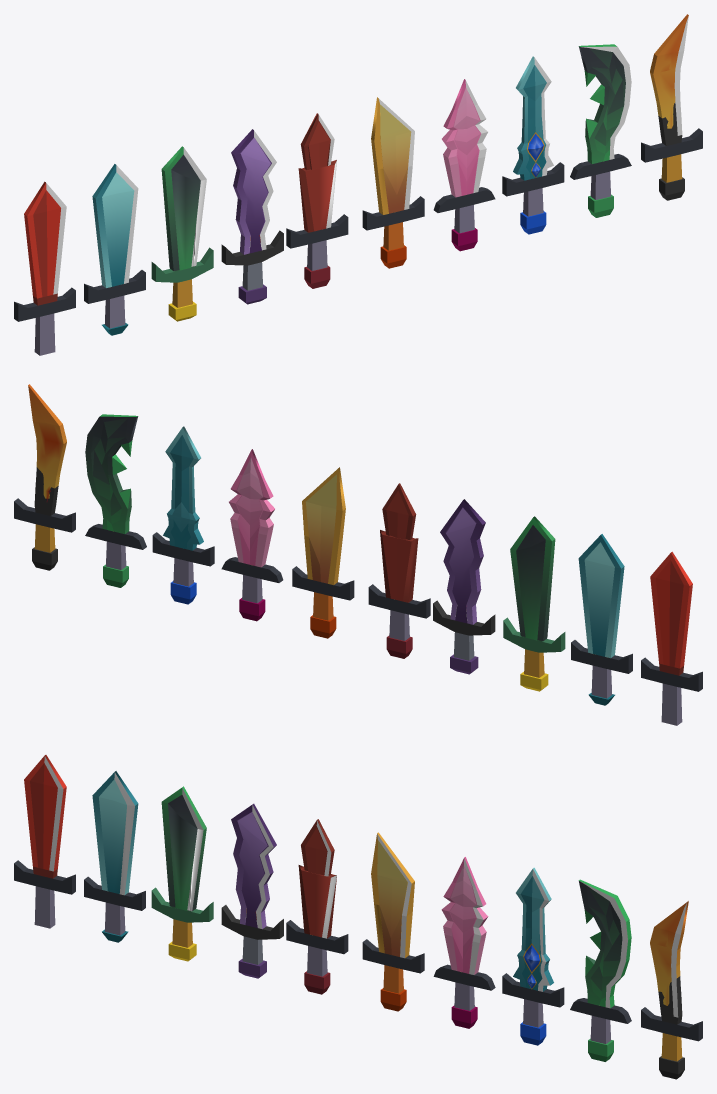
Rendered from Swords.fbx.
The picture shows the model from 3 angles, top to bottom: view 1: azimuth 30°, elevation 25°; view 2: azimuth 150°, elevation 25°; view 3: azimuth 330°, elevation 25°; orthographic projection.
Parts seen in each view (by area): view 1: sword_9, sword_3, sword_2, sword_6, sword_4, sword_1, sword_5, sword_7, sword_8, sword_10; view 2: sword_9, sword_3, sword_2, sword_6, sword_4, sword_1, sword_5, sword_7, sword_8, sword_10; view 3: sword_9, sword_3, sword_6, sword_2, sword_4, sword_1, sword_5, sword_7, sword_8, sword_10.
Part boxes in pixels (bbox=[...]): sword_9: bbox=[570, 44, 631, 217]; sword_3: bbox=[151, 146, 213, 321]; sword_2: bbox=[84, 164, 145, 335]; sword_6: bbox=[362, 97, 424, 268]; sword_4: bbox=[221, 129, 283, 304]; sword_1: bbox=[14, 181, 75, 355]; sword_5: bbox=[286, 113, 348, 288]; sword_7: bbox=[433, 79, 495, 251]; sword_8: bbox=[502, 56, 564, 234]; sword_10: bbox=[641, 14, 702, 200]; sword_9: bbox=[85, 414, 146, 587]; sword_3: bbox=[503, 516, 565, 691]; sword_2: bbox=[571, 534, 632, 705]; sword_6: bbox=[292, 467, 354, 638]; sword_4: bbox=[433, 499, 495, 674]; sword_1: bbox=[641, 551, 702, 725]; sword_5: bbox=[368, 483, 430, 658]; sword_7: bbox=[221, 449, 283, 621]; sword_8: bbox=[152, 426, 214, 604]; sword_10: bbox=[14, 384, 75, 570]; sword_9: bbox=[570, 879, 631, 1061]; sword_3: bbox=[151, 786, 213, 961]; sword_6: bbox=[362, 832, 424, 1011]; sword_2: bbox=[84, 771, 145, 942]; sword_4: bbox=[221, 803, 283, 978]; sword_1: bbox=[14, 755, 75, 928]; sword_5: bbox=[286, 819, 348, 994]; sword_7: bbox=[433, 857, 495, 1028]; sword_8: bbox=[502, 867, 564, 1045]; sword_10: bbox=[641, 901, 702, 1079].
Size of the model in its own units: 10.23 by 0.1841 by 2.58.
